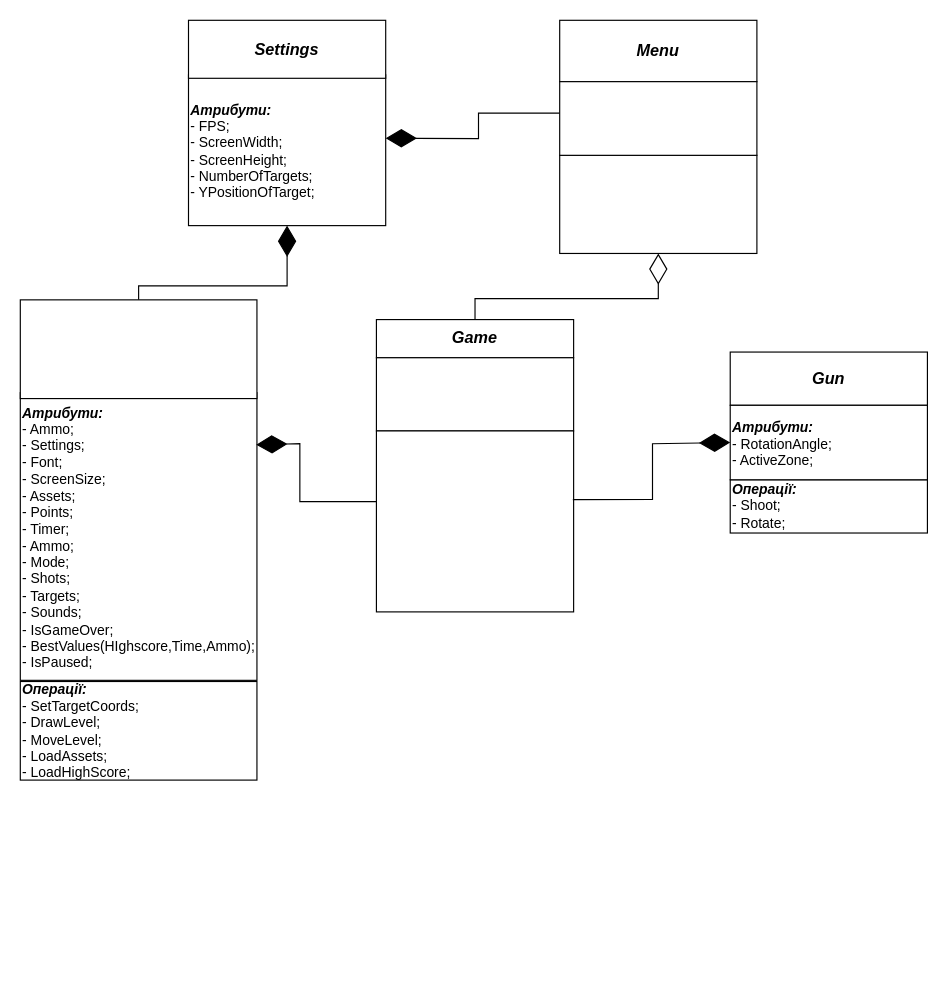
The diagram is 948 pixels wide and 983 high, and some of its shapes have lost their labels. Here are the shapes that lost their labels. From the top down, the box of each, then its label:
(559, 81, 757, 155): Атрибути: - IsPaused ; - HighScore;
(559, 154, 757, 253): Операції: - Restart; - Exit; - ResetHighScore; - ChangeMode; - ShowInfo;
(19, 299, 257, 399): GameContext
(375, 357, 574, 431): Атрибути: - Gun; - Menu; - GameContext;
(375, 430, 574, 612): Операції: - Render; - Start; - SetMode; - Restart; - Pause; - Exit;
